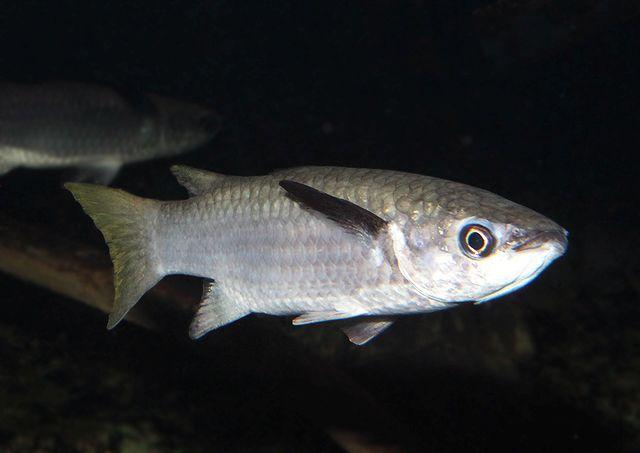Mullet: (63, 152, 571, 350)
